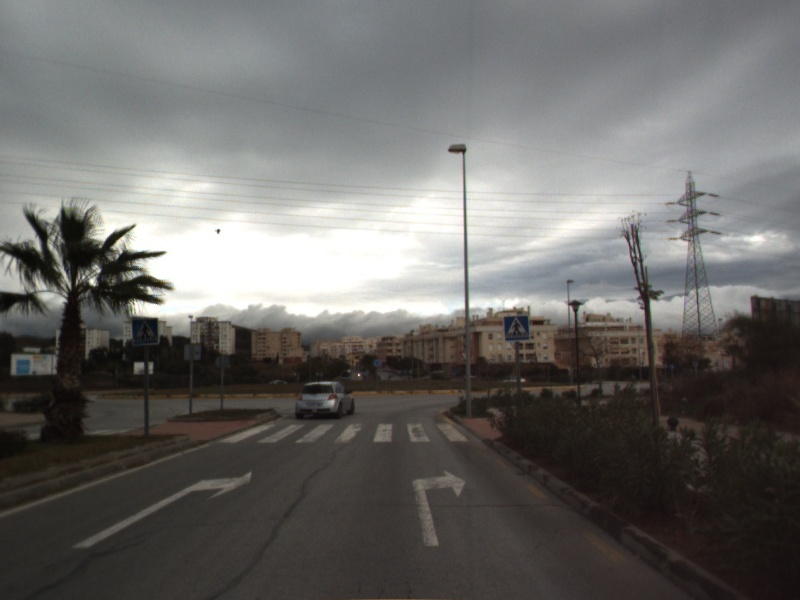RIGHT: (70, 469, 254, 550), (410, 468, 468, 548)
